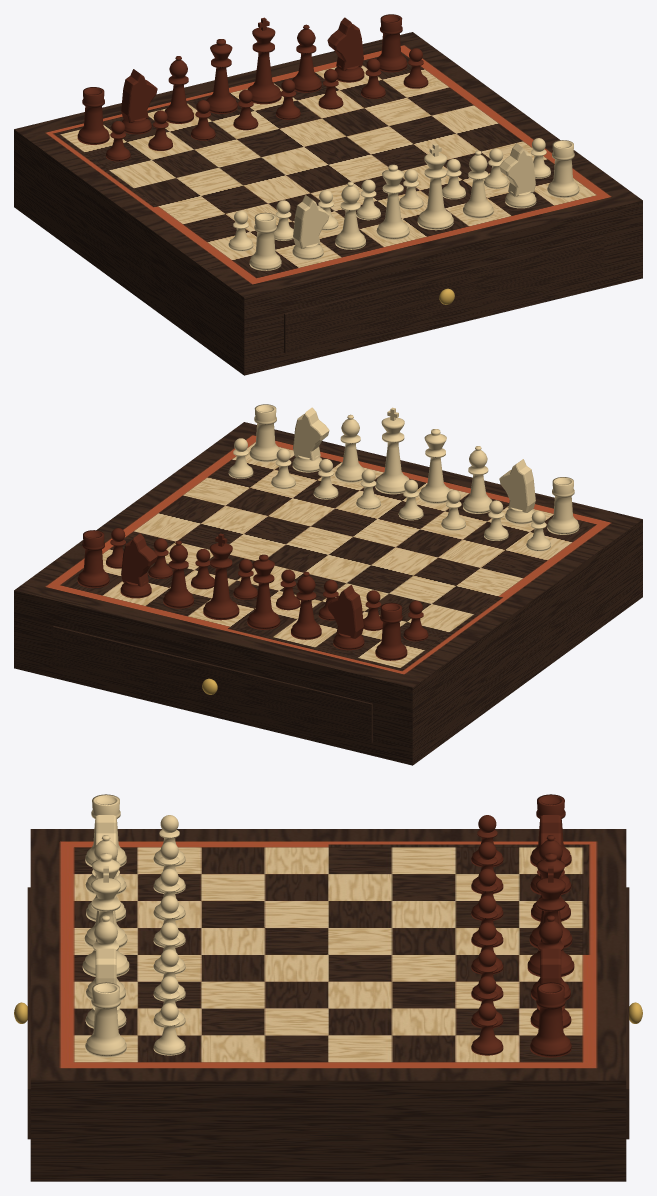
Rendered from philidor-3d-noyer-erable-30.glb.
3 renders of one model, top to bottom at view 1: azimuth 30°, elevation 25°; view 2: azimuth 150°, elevation 25°; view 3: azimuth 270°, elevation 25°, orthographic. The views are drawn at different scales.
Visible parts, largest first — view 1: noyer-erable-30; view 2: noyer-erable-30; view 3: noyer-erable-30.
Part boxes in pixels (bbox=[...]): noyer-erable-30: bbox=[14, 14, 642, 375]; noyer-erable-30: bbox=[14, 404, 642, 765]; noyer-erable-30: bbox=[14, 794, 642, 1181].
Size of what is drawn, in the model's own units: 0.3 by 0.112 by 0.3167.
Materials: 6 (3 with a texture image).
